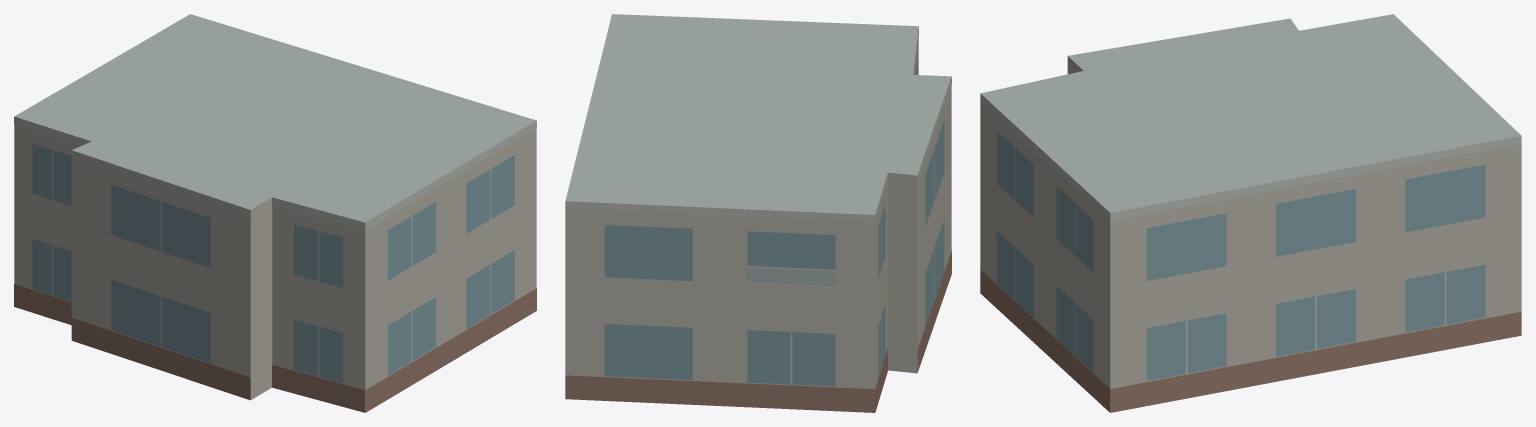
Rendered from survey-upis-32890067.glb.
3 renders of one model, left to right at view 1: azimuth 30°, elevation 25°; view 2: azimuth 150°, elevation 25°; view 3: azimuth 270°, elevation 25°, orthographic. The views are drawn at different scales.
Parts seen in each view (by area): view 1: survey-upis-32890067.tmp; view 2: survey-upis-32890067.tmp; view 3: survey-upis-32890067.tmp.
Part boxes in pixels (x1=…): survey-upis-32890067.tmp: x1=14, y1=14, x2=536, y2=412; survey-upis-32890067.tmp: x1=565, y1=14, x2=951, y2=412; survey-upis-32890067.tmp: x1=980, y1=14, x2=1521, y2=412.
Bounding box in the file's own units: 13.02 × 6.1 × 14.97.
